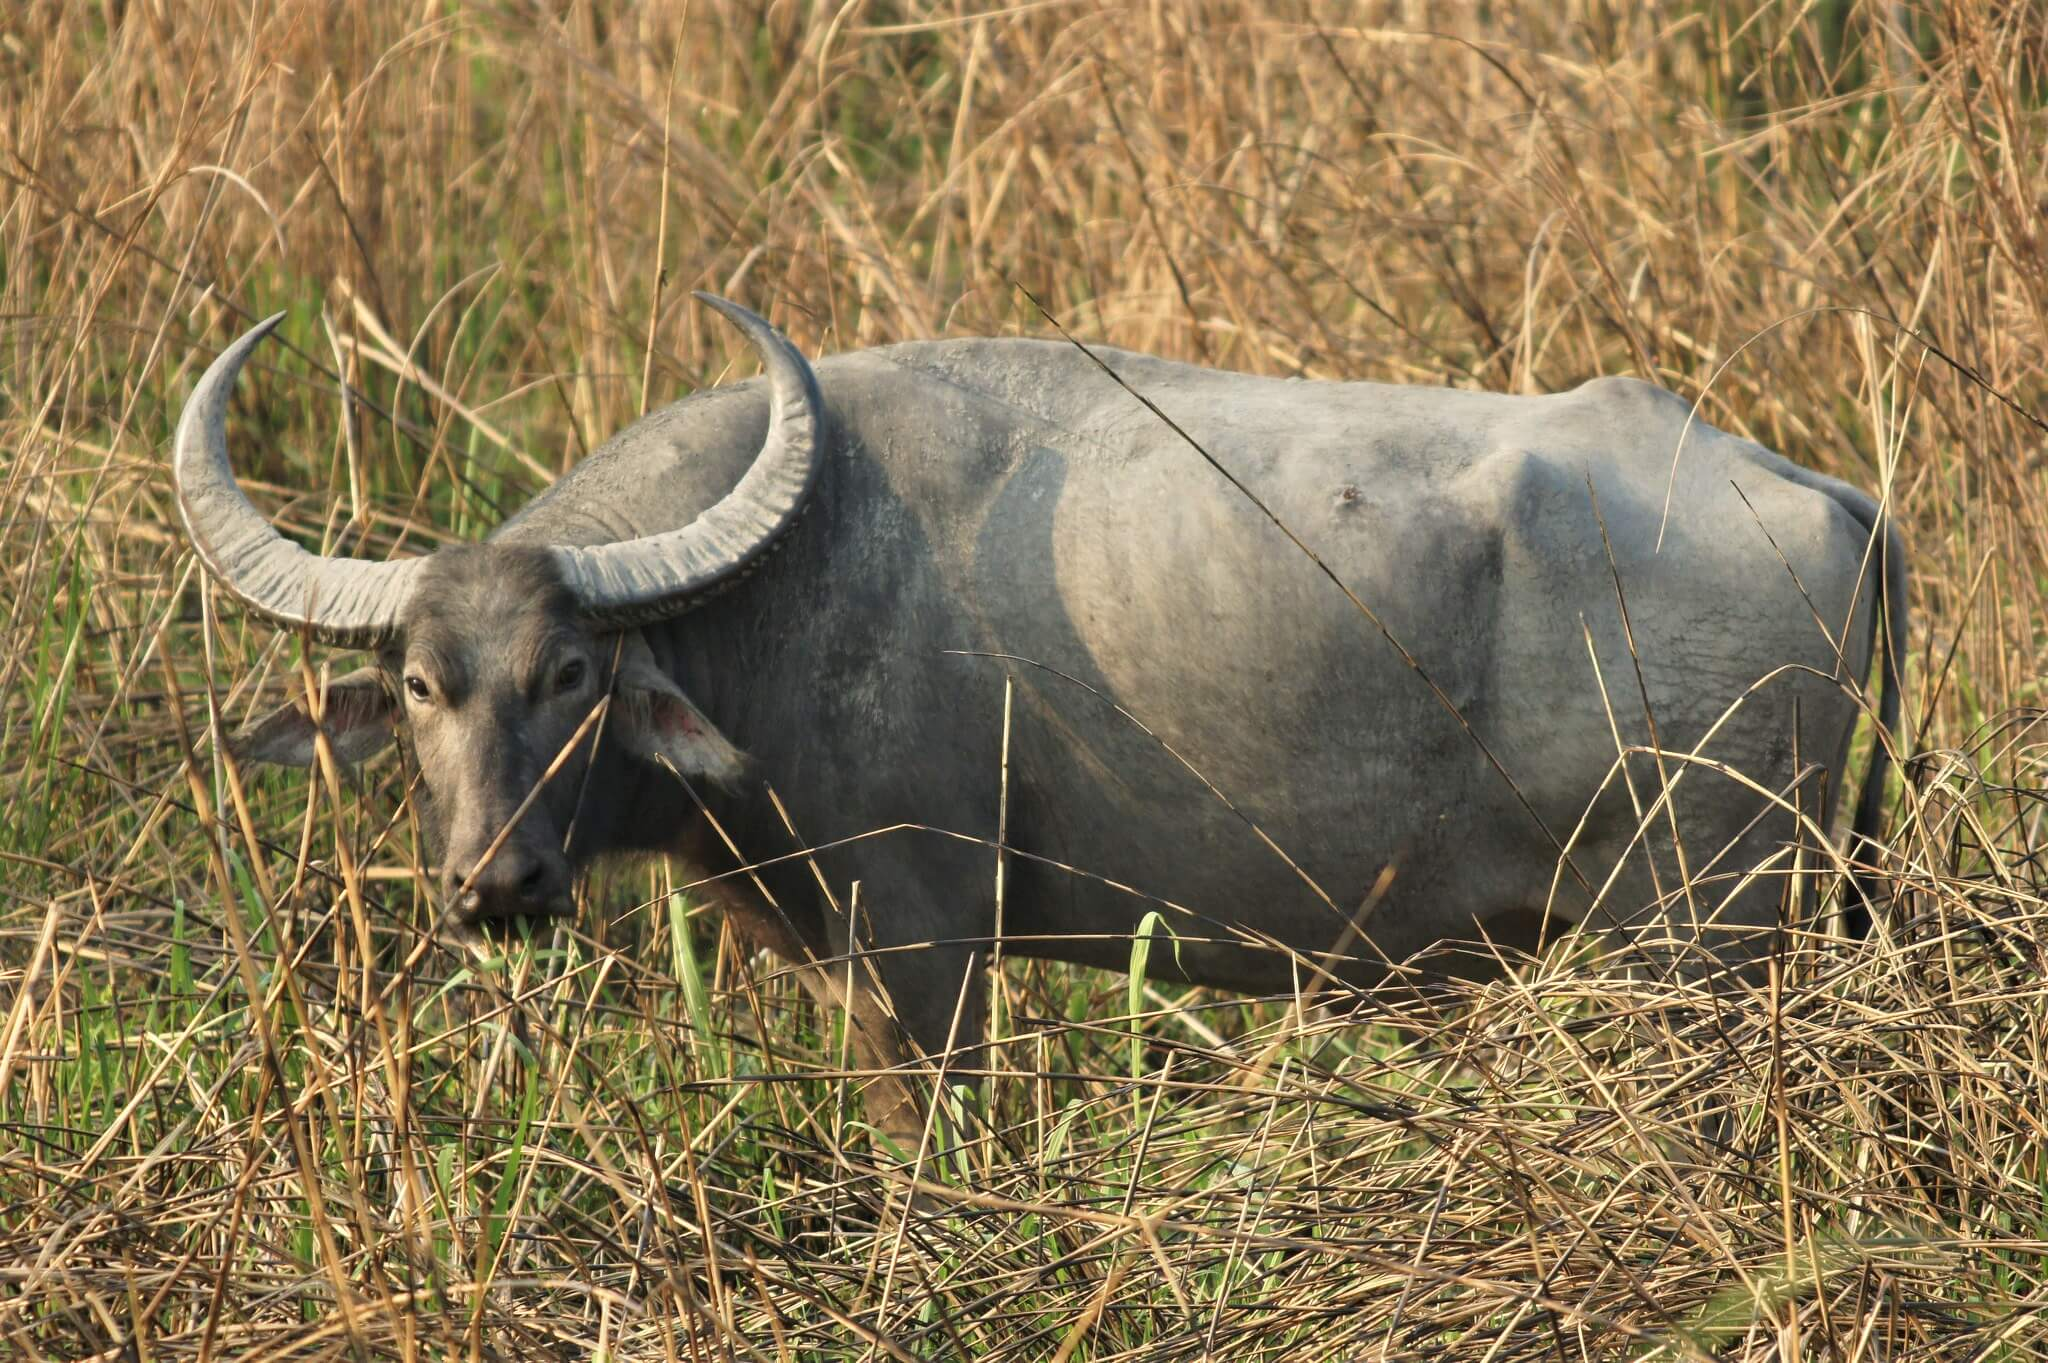buffalo: (172, 304, 1891, 1050)
